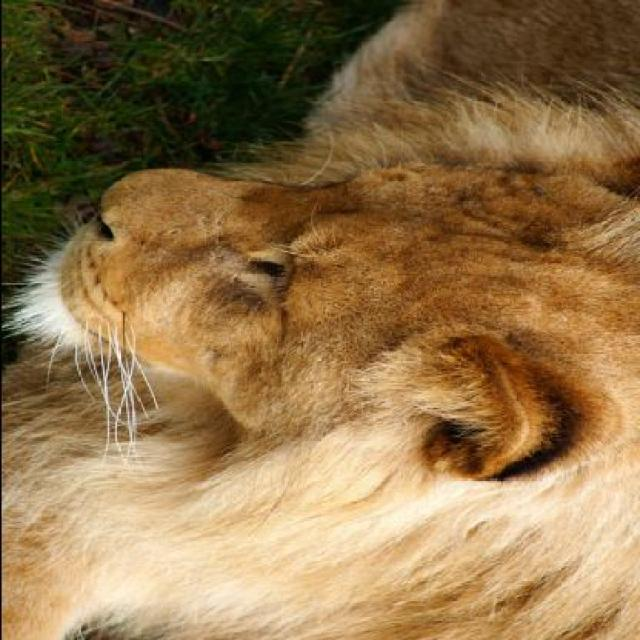Lion: (2, 54, 629, 611)
